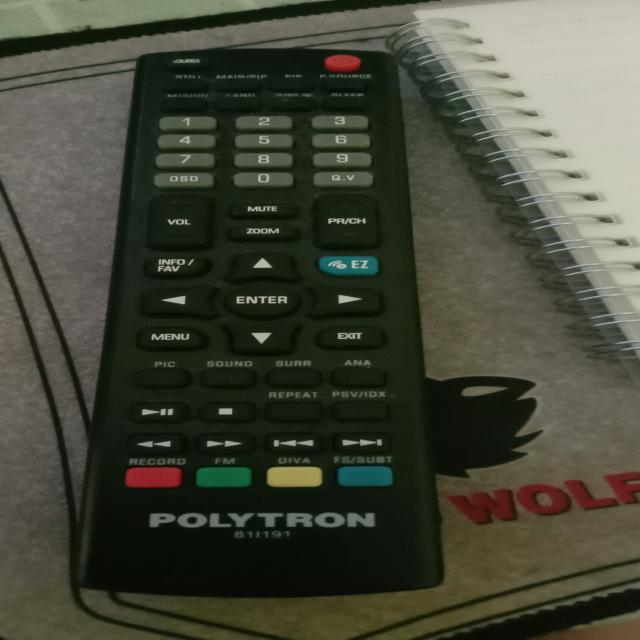remote: (66, 46, 449, 592)
